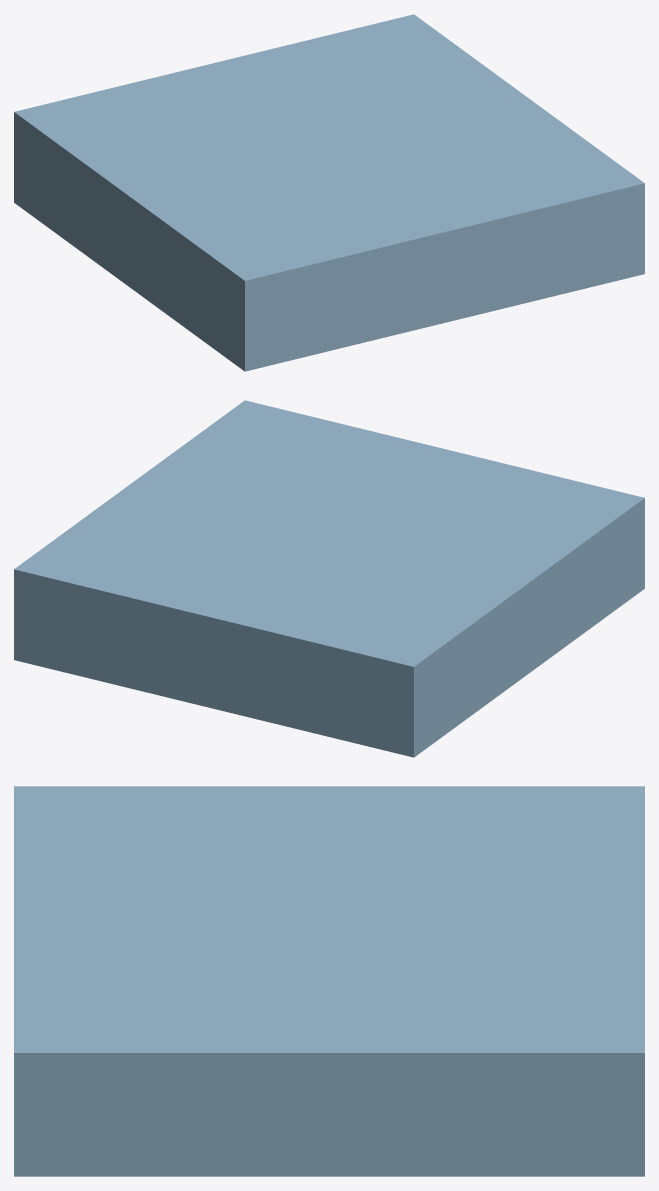
Rendered from towerSquareMidColor.fbx.
3 views of the same model, one above another, from view 1: azimuth 30°, elevation 25°; view 2: azimuth 150°, elevation 25°; view 3: azimuth 270°, elevation 25° (orthographic). The views are drawn at different scales.
Parts seen in each view (by area): view 1: towerSquareMidColor; view 2: towerSquareMidColor; view 3: towerSquareMidColor.
Part boxes in pixels (left/top/right/bottom): towerSquareMidColor: left=14, top=14, right=644, bottom=371; towerSquareMidColor: left=14, top=400, right=644, bottom=757; towerSquareMidColor: left=14, top=786, right=644, bottom=1176.
Size of the model in its own units: 279 by 60.48 by 279.
